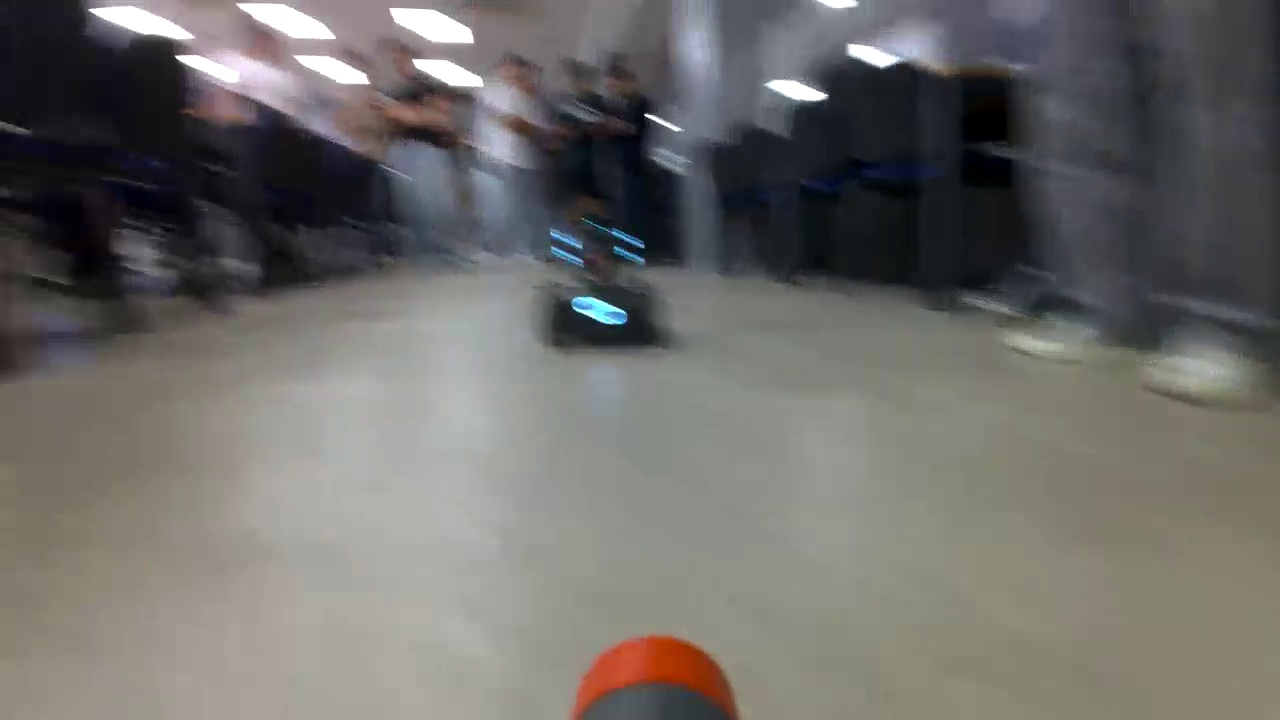robot: (548, 225, 668, 350)
